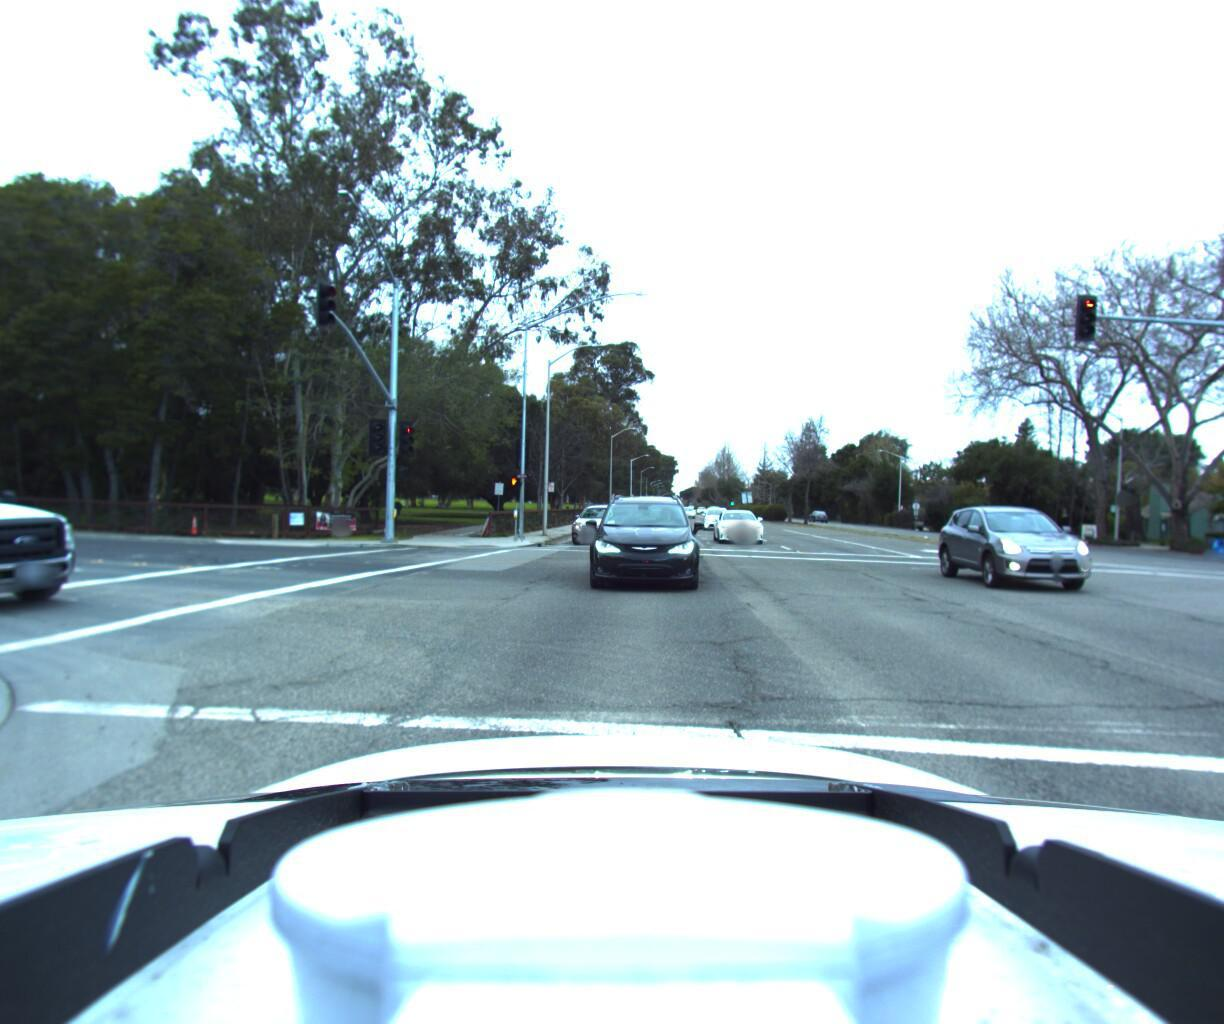car: (948, 499, 1151, 597), (0, 448, 90, 625), (585, 493, 696, 595), (568, 503, 626, 545), (714, 508, 769, 545), (700, 507, 733, 531)
